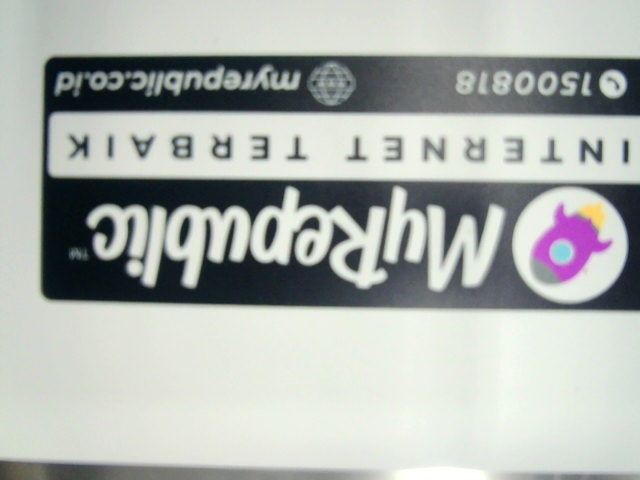BD_MyRepublic: (33, 53, 639, 316)
